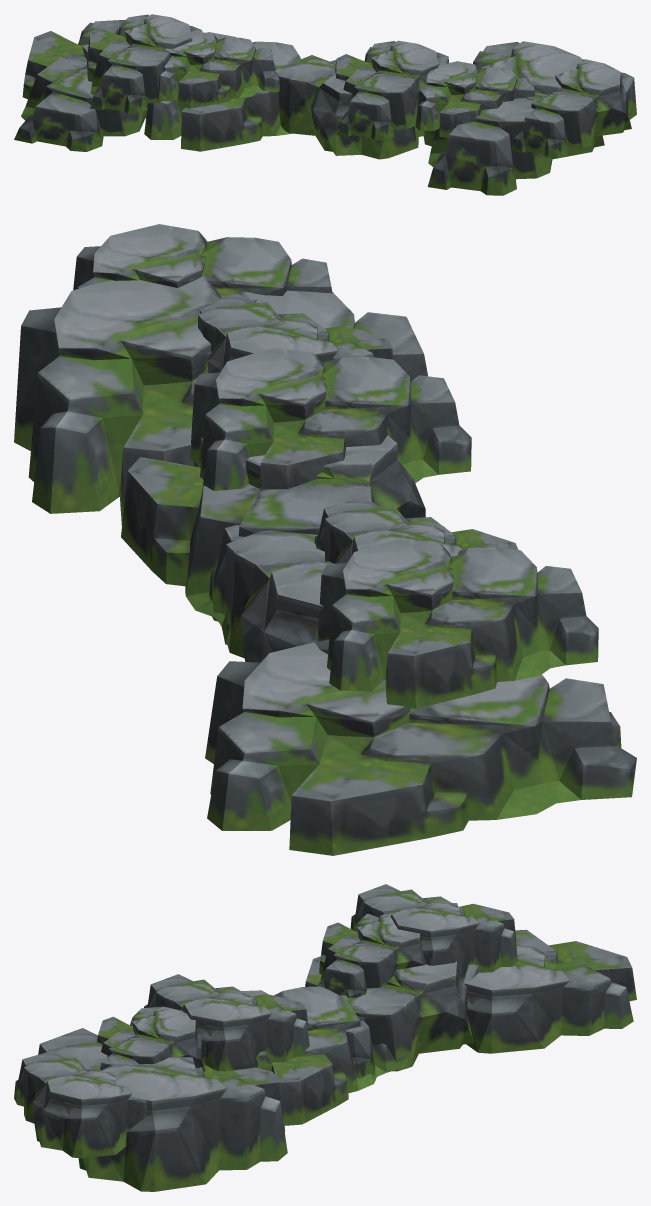
The model's file is Area08_18_y.FBX.
The picture shows the model from 3 angles, top to bottom: view 1: azimuth 30°, elevation 25°; view 2: azimuth 150°, elevation 25°; view 3: azimuth 270°, elevation 25°; orthographic projection. The views are drawn at different scales.
Visible parts, largest first — view 1: Area08_18_y; view 2: Area08_18_y; view 3: Area08_18_y.
Boxes of the visible parts, left/top/right/bottom form: Area08_18_y: left=14, top=14, right=636, bottom=195; Area08_18_y: left=14, top=224, right=636, bottom=855; Area08_18_y: left=14, top=884, right=636, bottom=1191.
Size of the model in its own units: 2298 by 404 by 2311.
Materials: 1 (1 with a texture image).
